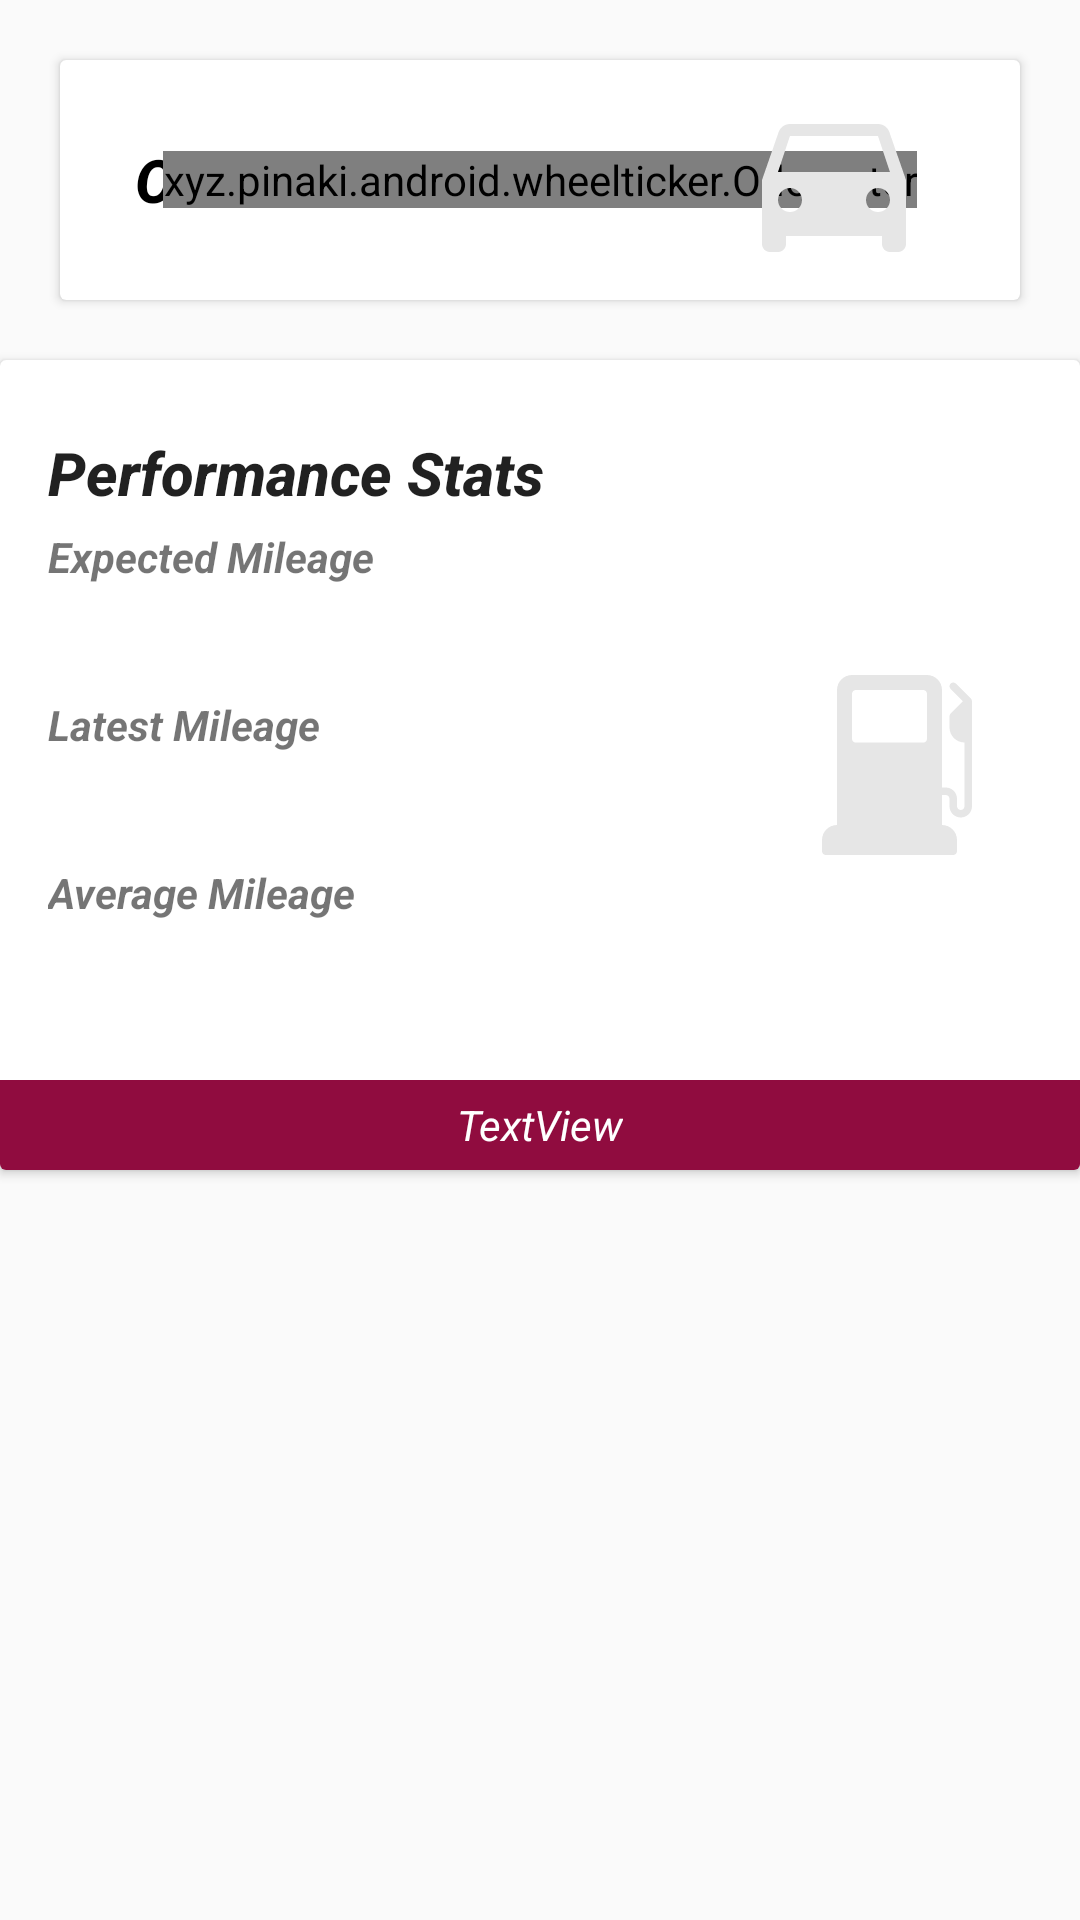

Screen size 1080w x 1920h. Icon name, then its center in pixels as [x,y]:
gas station: [897,765]
